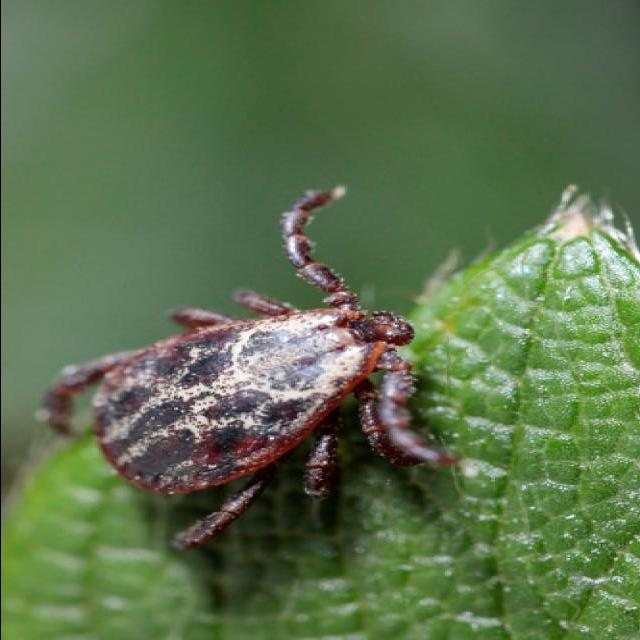Dermacentor Reticulatus-M: (33, 186, 457, 550)
